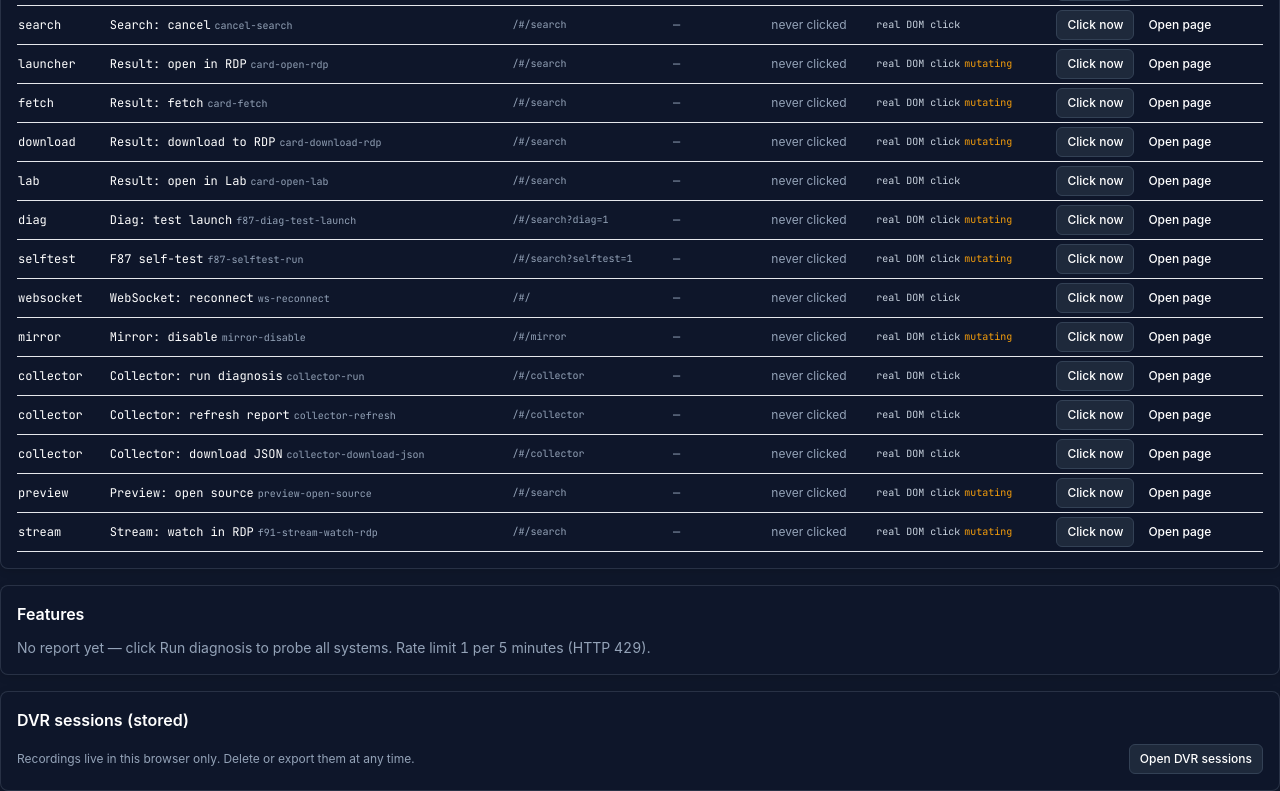
Test: F107-S5: the stored-session UI surfaces mount › Collector hosts the DVR sessions section and the button opens the modal
This screenshot has width=1280, height=791.
(page scrolled)
What coordinates should you click on to do the following:
click the button with test id "dvr-sessions-open"
I would click on:
 (1196, 759)
Its box is [1129,744,1263,774].
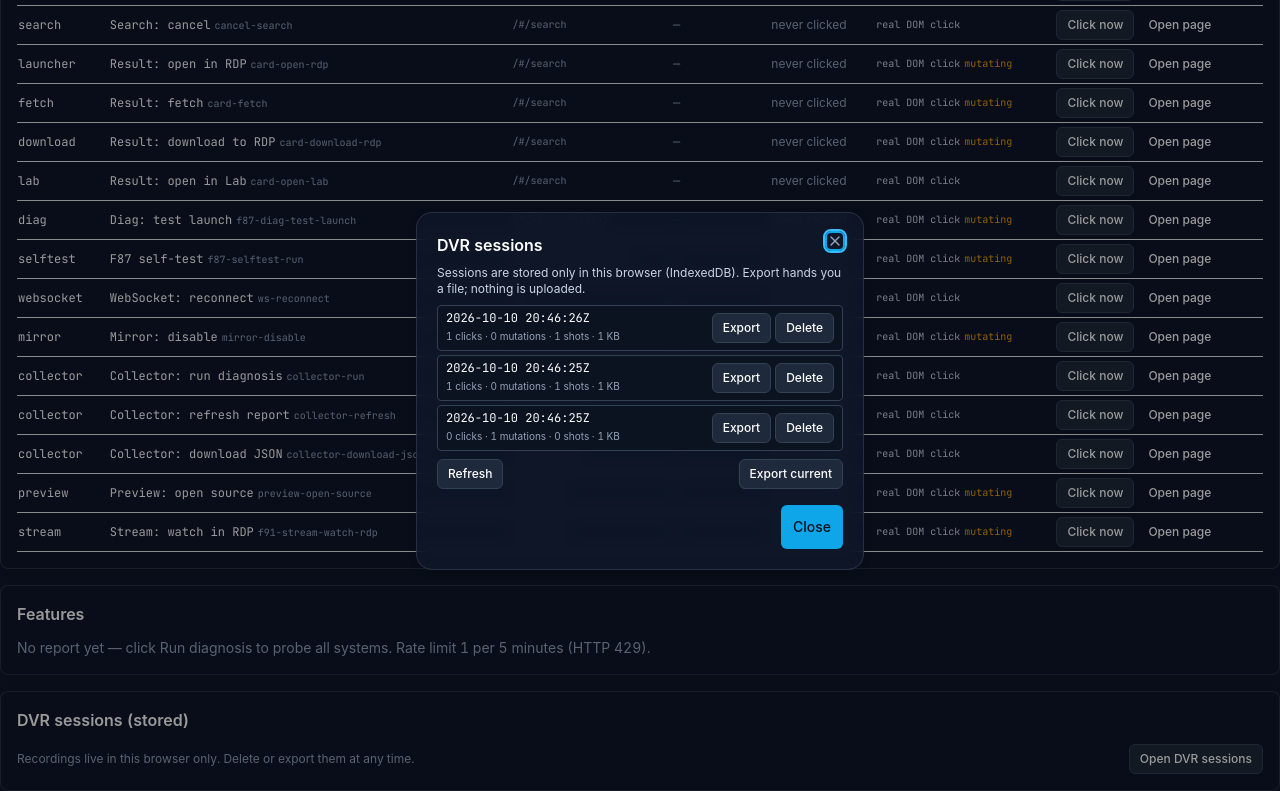
Now the element with test id "dvr-sessions-modal" is shown, box [437,265,843,489]
Now the list item with test id "dvr-session-row" that starts with "2026-10-10 20:46:26Z" is shown, box [437,305,843,351]
